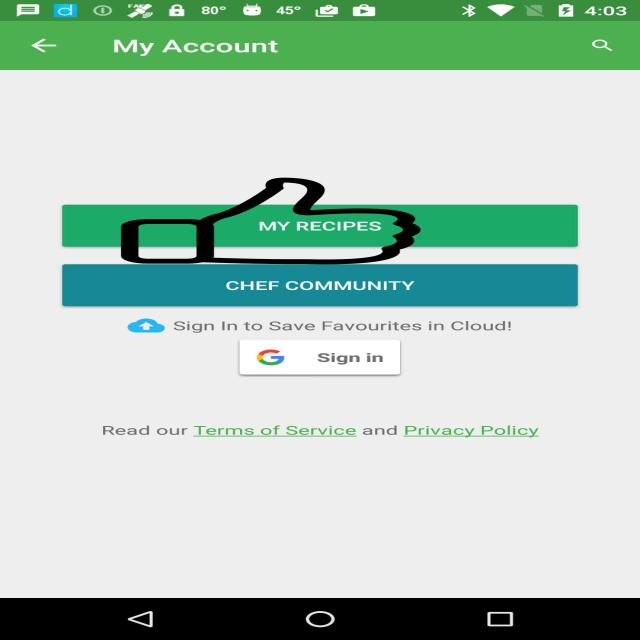privacy zuckering: (117, 178, 425, 264)
